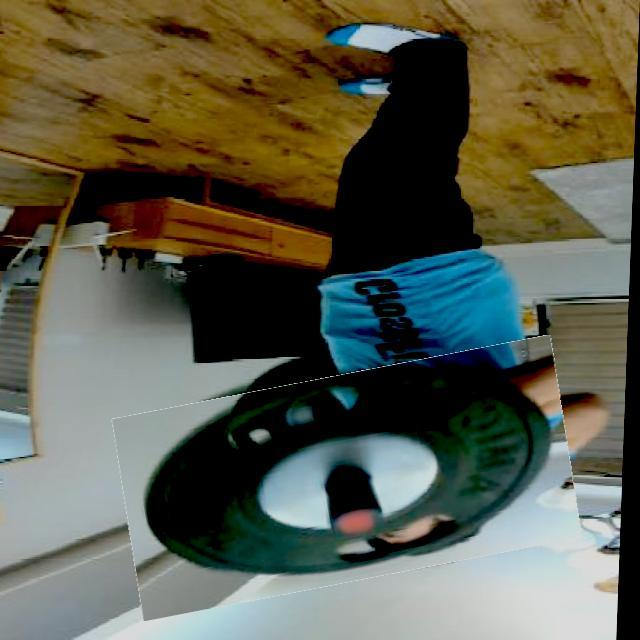barbell: (119, 356, 584, 602)
